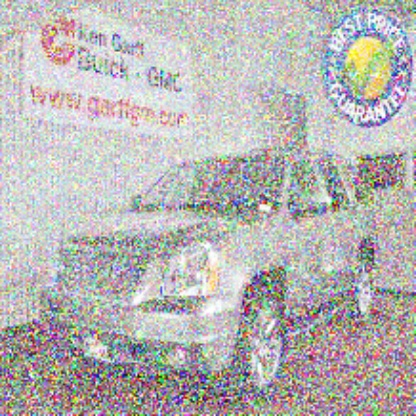Vehicle: (39, 146, 382, 405)
